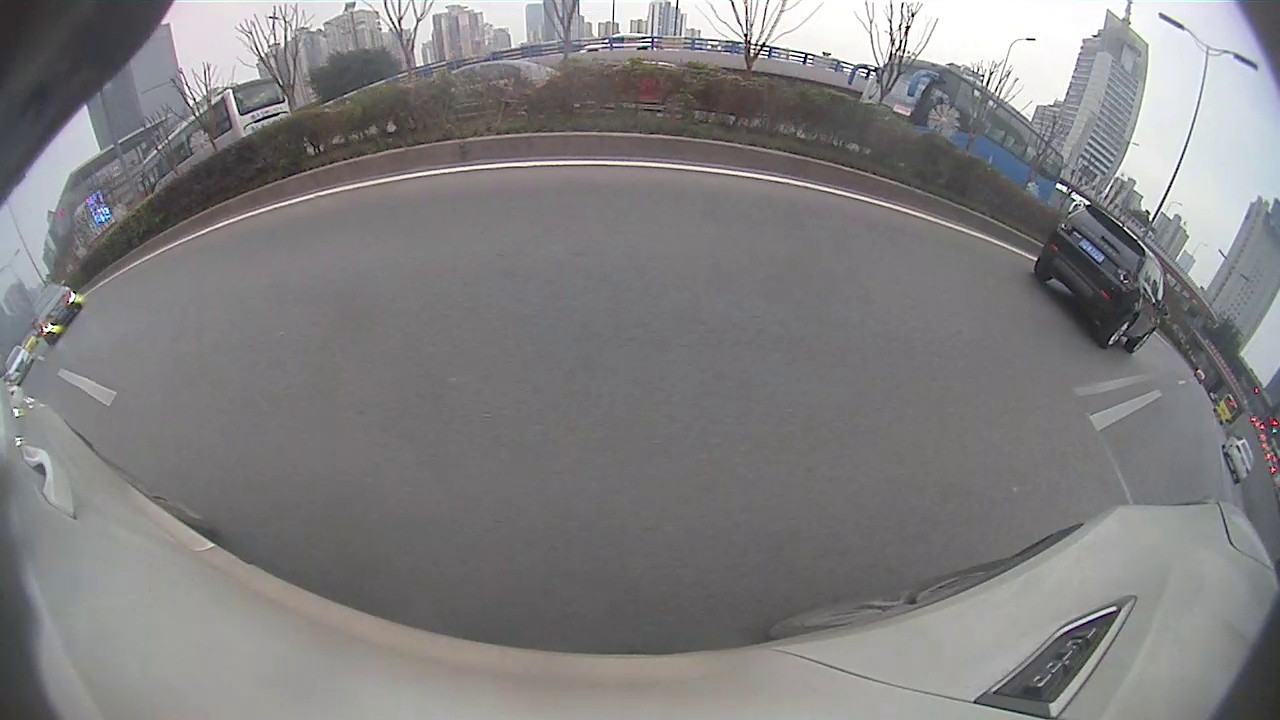bus: (865, 57, 1063, 205)
car: (1034, 203, 1166, 352), (26, 285, 85, 345), (1223, 433, 1253, 483)
front: (1130, 331, 1154, 351)
rear: (1104, 316, 1132, 347)
